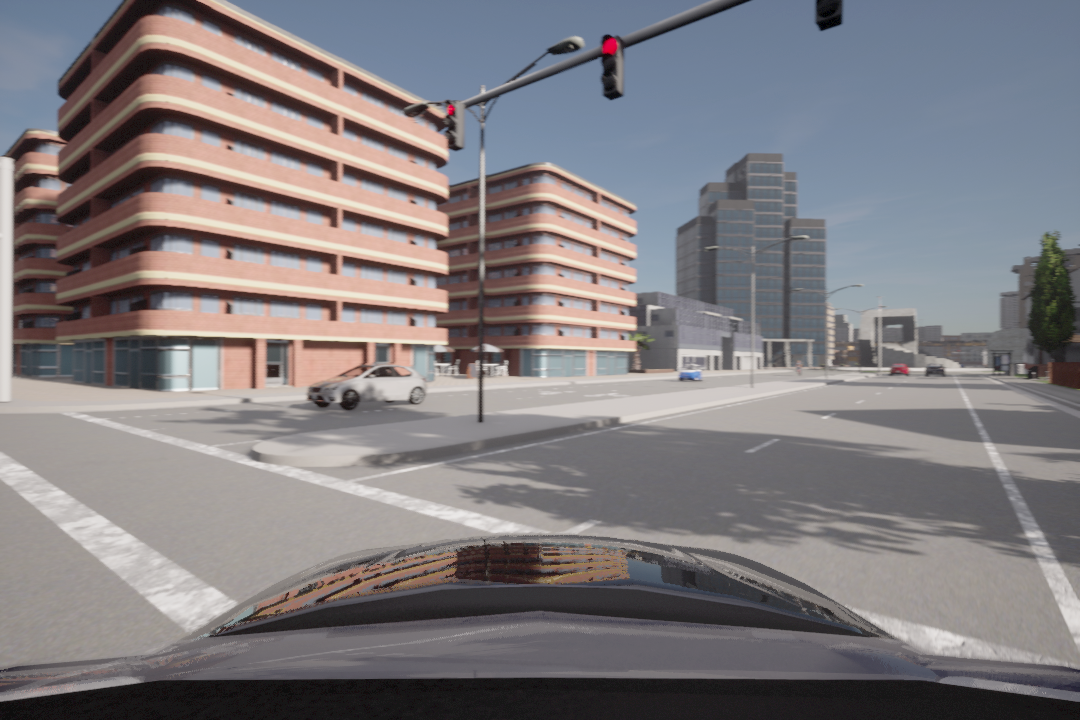TrafficLight: (595, 35, 626, 98), (442, 96, 463, 154)
